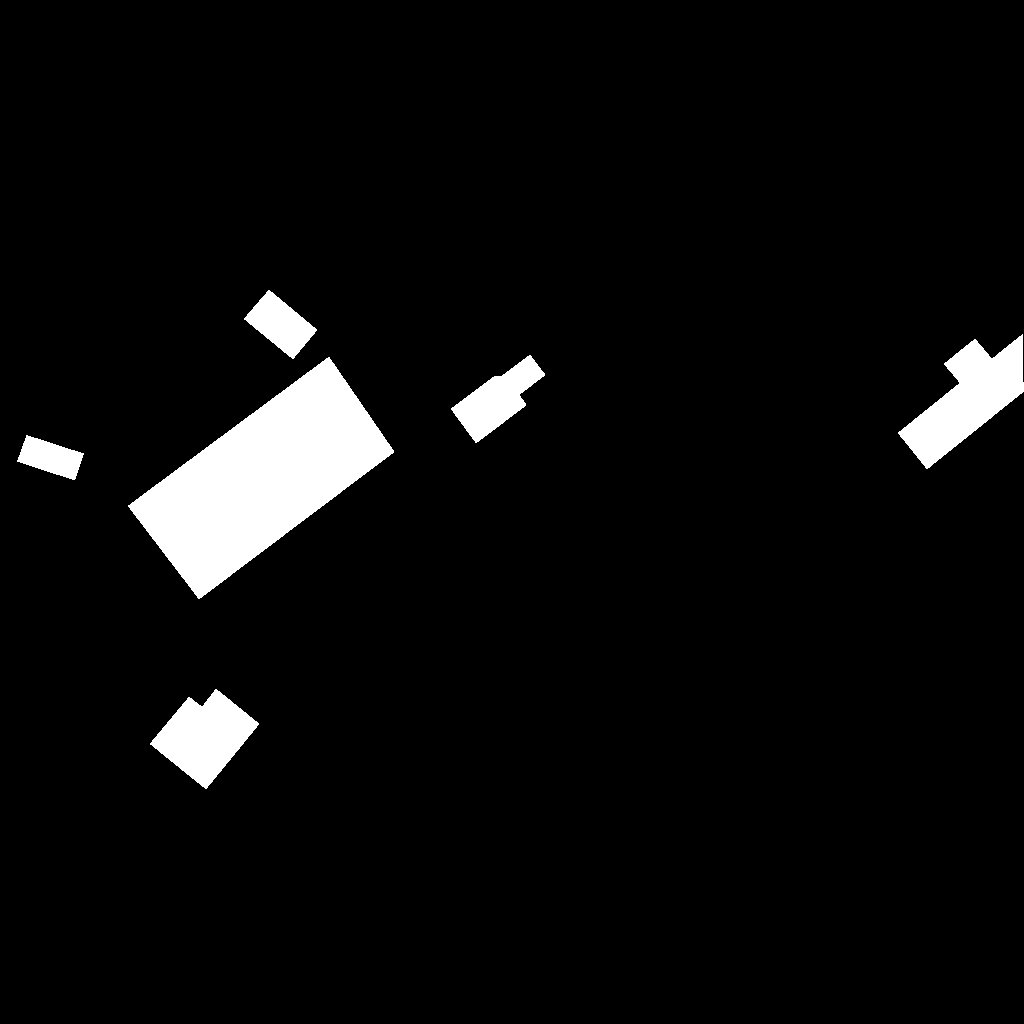building: (128, 357, 395, 600), (898, 334, 1024, 470), (150, 689, 260, 790), (451, 355, 546, 444), (244, 290, 318, 360), (17, 435, 85, 481)
